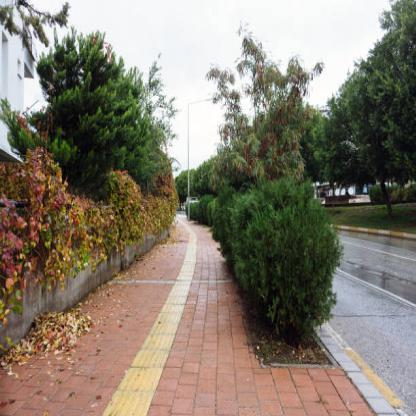podotacti: (101, 238, 196, 415)
